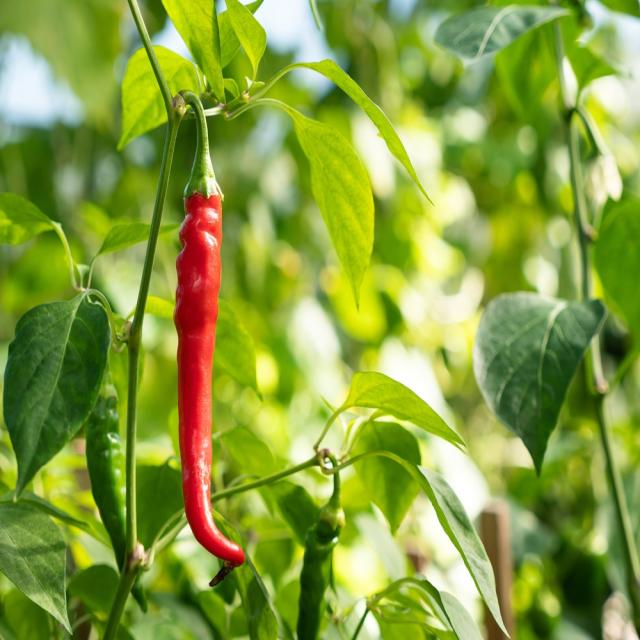Ripe: (174, 193, 245, 567)
Unripe: (296, 472, 345, 640), (86, 372, 126, 571)
